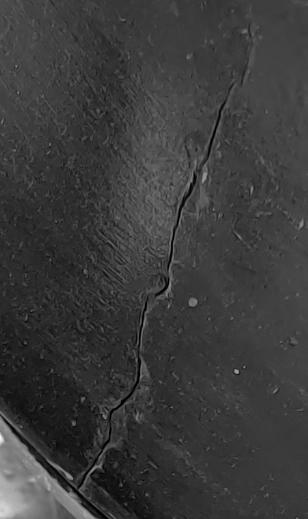crack: (1, 1, 308, 519)
